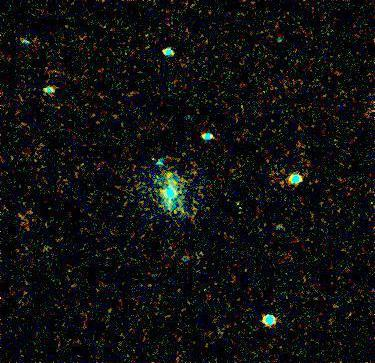star: (158, 161, 188, 191)
